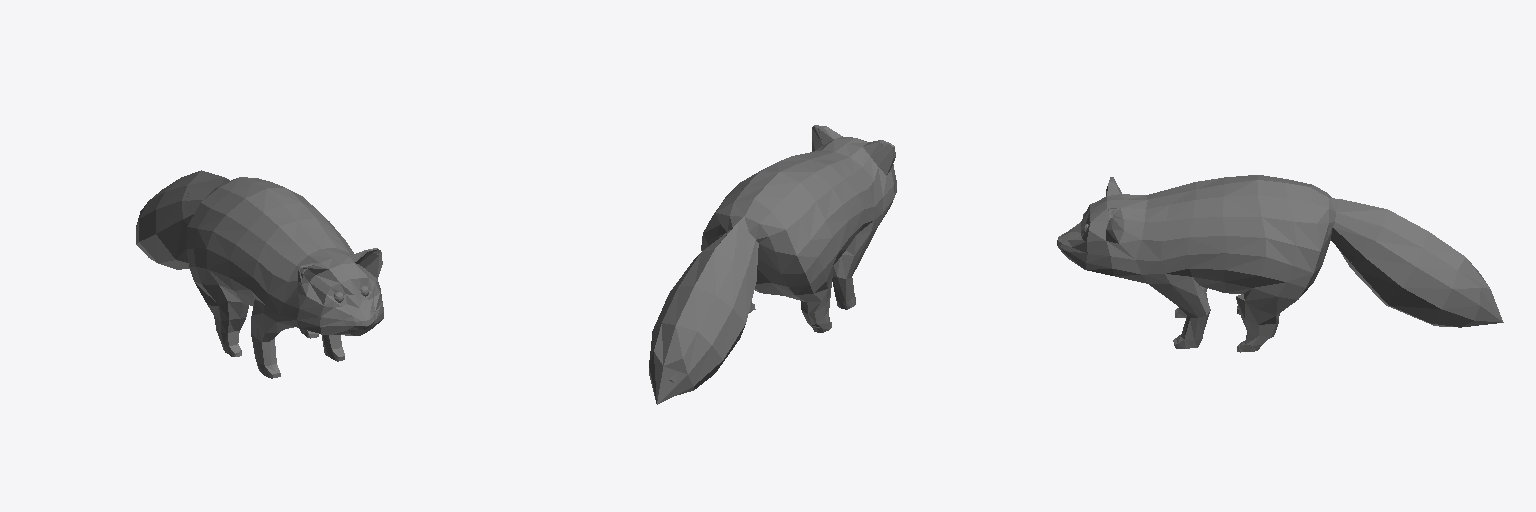
Rendered from Raccoon_Model.obj.
The picture shows the model from 3 angles: view 1: azimuth 30°, elevation 25°; view 2: azimuth 150°, elevation 25°; view 3: azimuth 270°, elevation 25°; orthographic projection.
Parts seen in each view (by area): view 1: Red_Panda Geo Panda_Raccoon_Main, Geo Panda_Raccoon_Main Raccoon; view 2: Red_Panda Geo Panda_Raccoon_Main, Geo Panda_Raccoon_Main Raccoon; view 3: Red_Panda Geo Panda_Raccoon_Main, Geo Panda_Raccoon_Main Raccoon.
Boxes of the visible parts, x1=… form: Red_Panda Geo Panda_Raccoon_Main: x1=186, y1=177, x2=383, y2=378; Geo Panda_Raccoon_Main Raccoon: x1=136, y1=170, x2=382, y2=283; Red_Panda Geo Panda_Raccoon_Main: x1=669, y1=127, x2=896, y2=382; Geo Panda_Raccoon_Main Raccoon: x1=649, y1=125, x2=895, y2=404; Red_Panda Geo Panda_Raccoon_Main: x1=1057, y1=175, x2=1375, y2=352; Geo Panda_Raccoon_Main Raccoon: x1=1106, y1=177, x2=1503, y2=327.
Bounding box in the file's own units: 7.25 × 8.86 × 23.62.